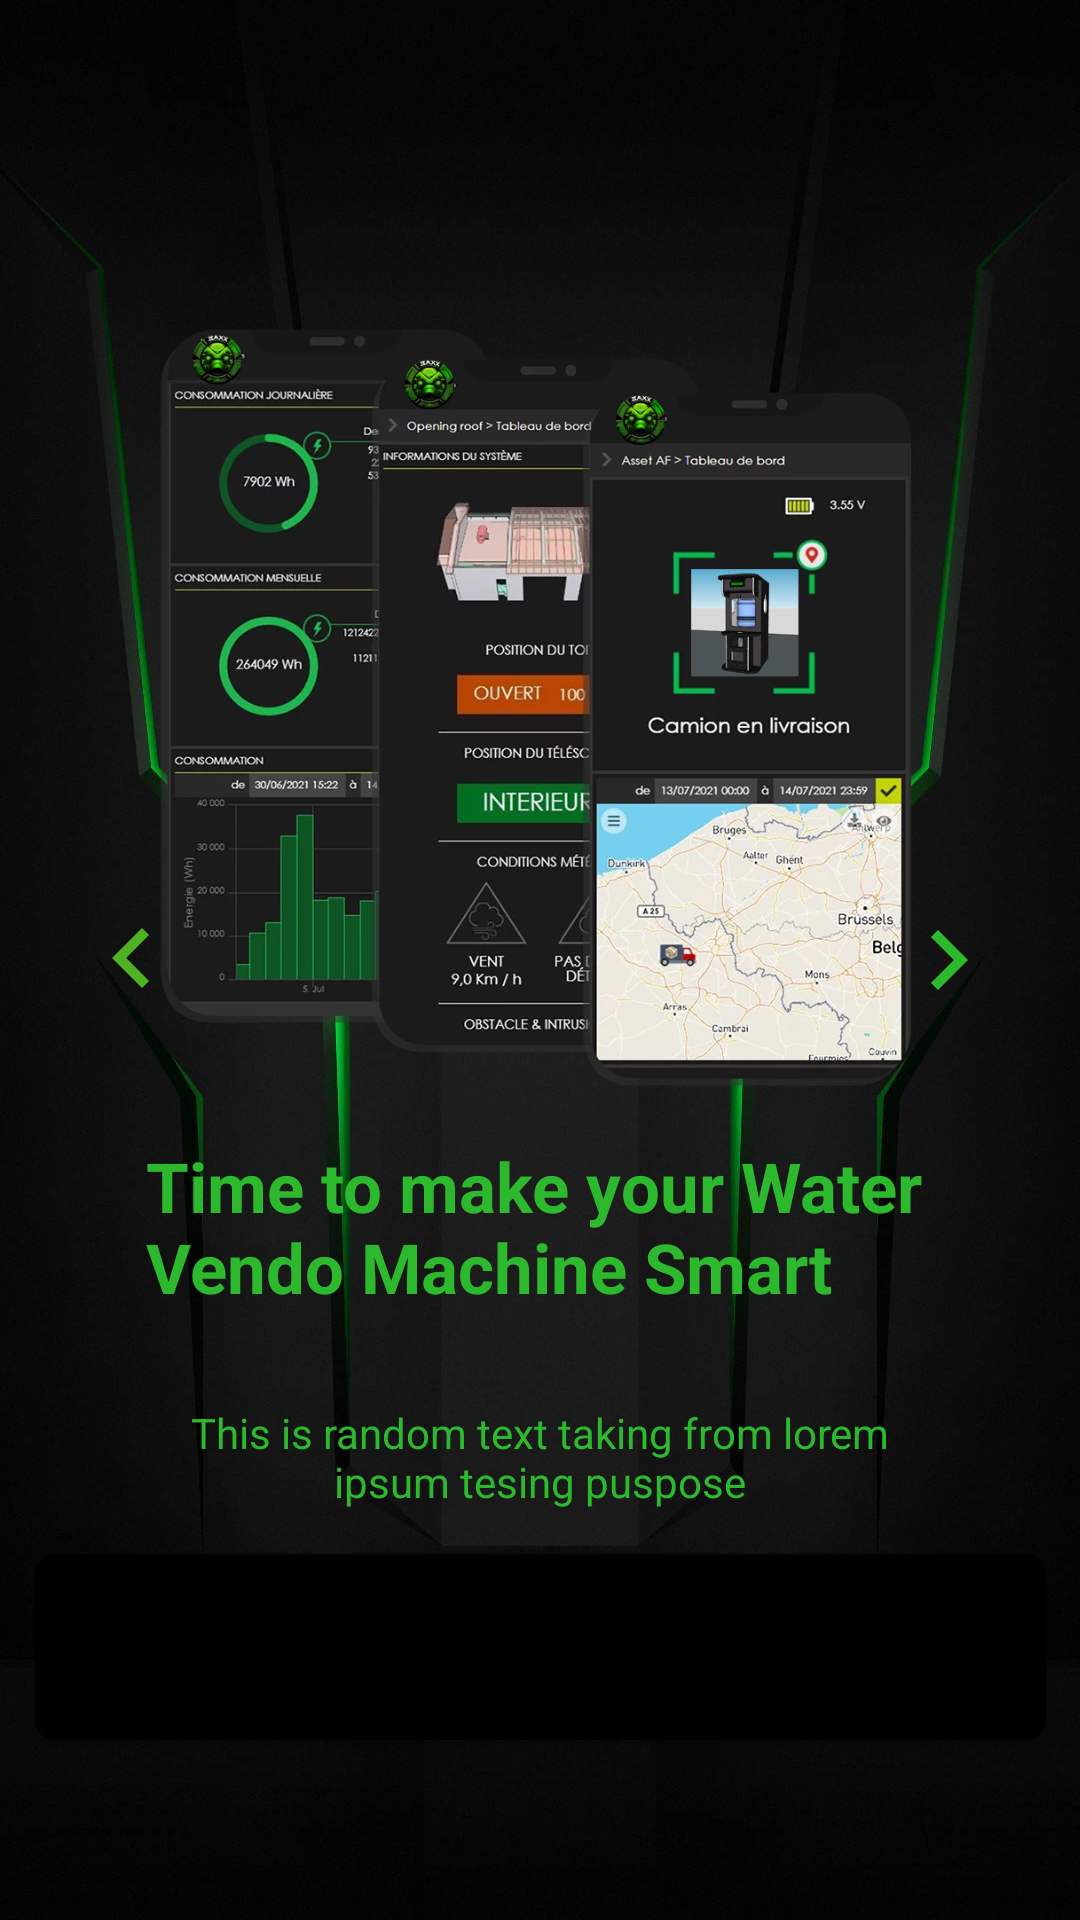

Where icons sit on this 1080px x 1920px app screen, as {"x1": x1, "y1": y1, "x2": x2, "y2": y2}:
back: {"x1": 112, "y1": 898, "x2": 192, "y2": 1017}
next: {"x1": 888, "y1": 900, "x2": 968, "y2": 1020}
